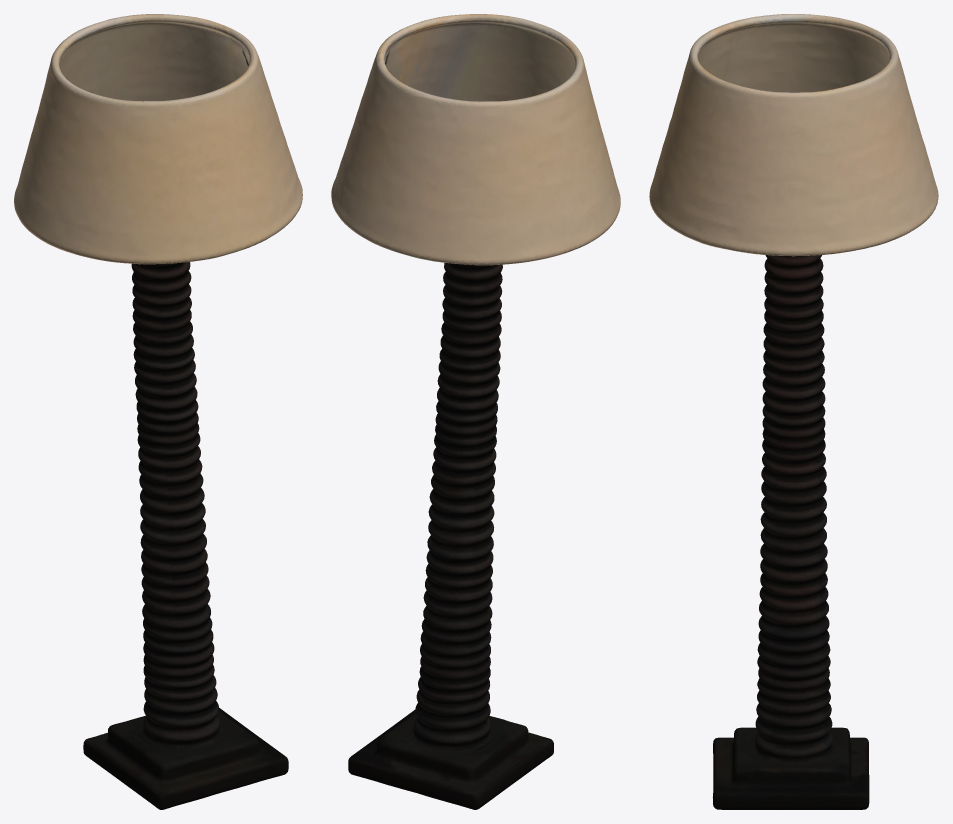
3 renders of one model, left to right at view 1: azimuth 30°, elevation 25°; view 2: azimuth 150°, elevation 25°; view 3: azimuth 270°, elevation 25°, orthographic.
Parts seen in each view (by area): view 1: tripo_node_0a169b12-13dd-4f38-9d3a-30c9f19f821b; view 2: tripo_node_0a169b12-13dd-4f38-9d3a-30c9f19f821b; view 3: tripo_node_0a169b12-13dd-4f38-9d3a-30c9f19f821b.
Part boxes in pixels (bbox=[...]): tripo_node_0a169b12-13dd-4f38-9d3a-30c9f19f821b: bbox=[14, 14, 302, 809]; tripo_node_0a169b12-13dd-4f38-9d3a-30c9f19f821b: bbox=[331, 14, 620, 809]; tripo_node_0a169b12-13dd-4f38-9d3a-30c9f19f821b: bbox=[649, 14, 938, 809].
Size of the model in its own units: 0.3456 by 0.9486 by 0.3453.
Materials: 1 (1 with a texture image).
